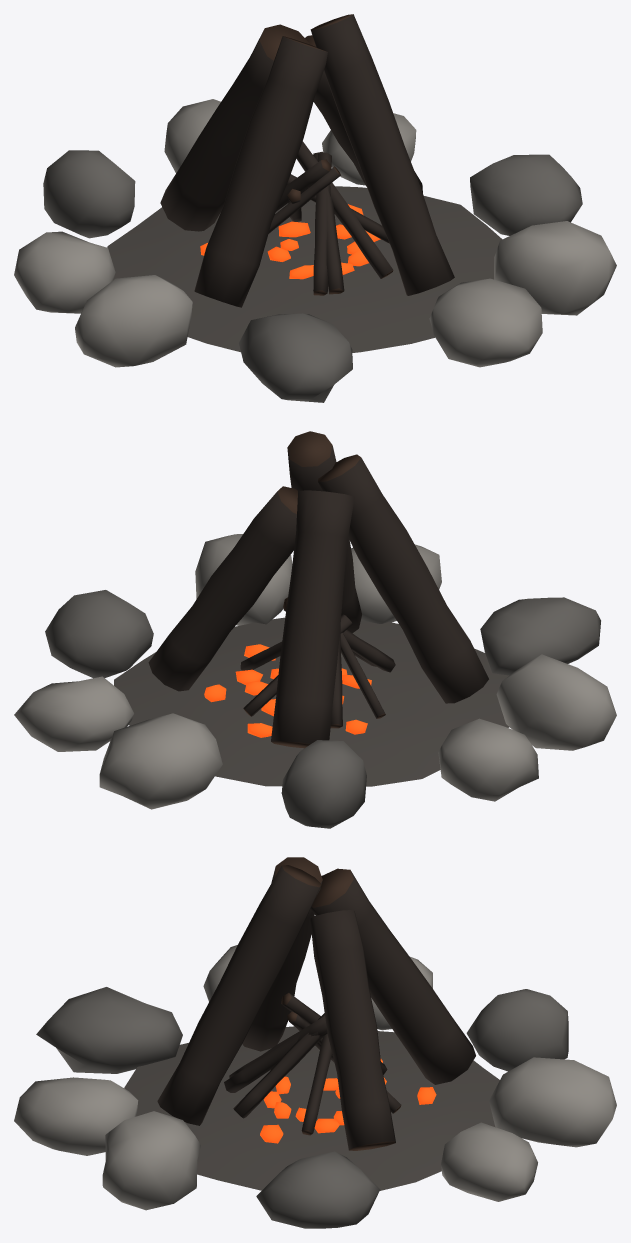
File: feu_camp_braise.glb
The picture shows the model from 3 angles, top to bottom: view 1: azimuth 30°, elevation 25°; view 2: azimuth 150°, elevation 25°; view 3: azimuth 270°, elevation 25°; orthographic projection. The views are drawn at different scales.
Visible parts, largest first — view 1: Feu_camp_braise; view 2: Feu_camp_braise; view 3: Feu_camp_braise.
Boxes of the visible parts, bbox=[...] form: Feu_camp_braise: bbox=[14, 14, 616, 402]; Feu_camp_braise: bbox=[14, 431, 616, 828]; Feu_camp_braise: bbox=[14, 857, 616, 1228].
Size of the model in its own units: 0.8064 by 0.4061 by 0.8189.
